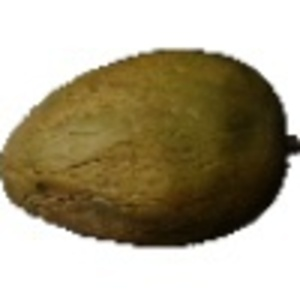mamão: (4, 41, 291, 255)
